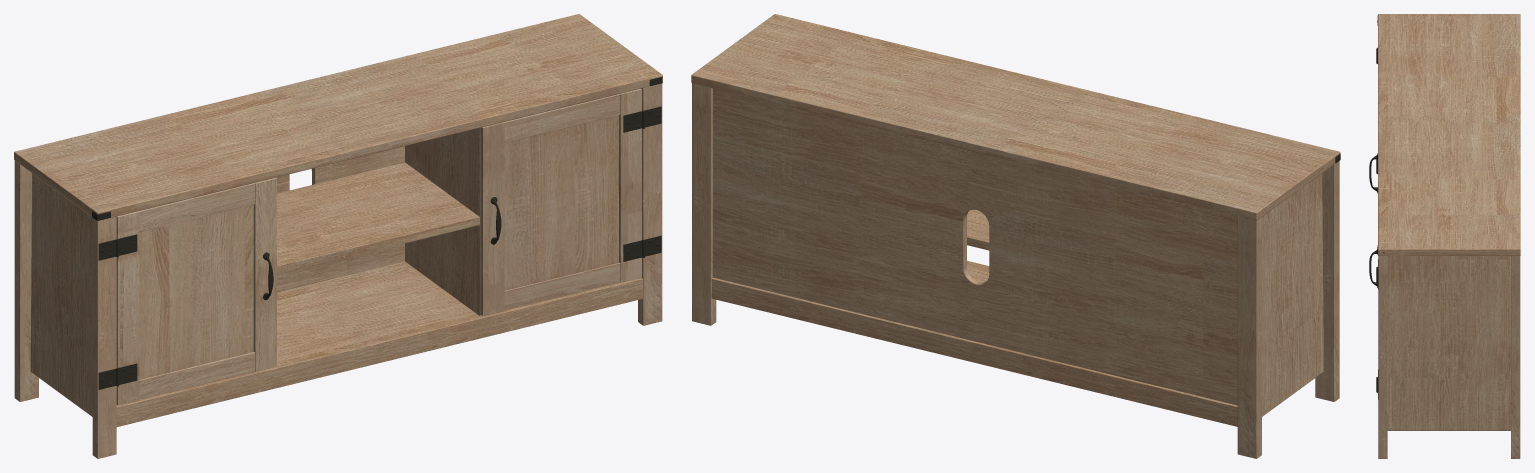
File: abo-B07V24ZSFH.glb
3 renders of one model, left to right at view 1: azimuth 30°, elevation 25°; view 2: azimuth 150°, elevation 25°; view 3: azimuth 270°, elevation 25°, orthographic. The views are drawn at different scales.
Size of the model in its own units: 1.47 by 0.61 by 0.398.
Materials: 1 (1 with a texture image).
